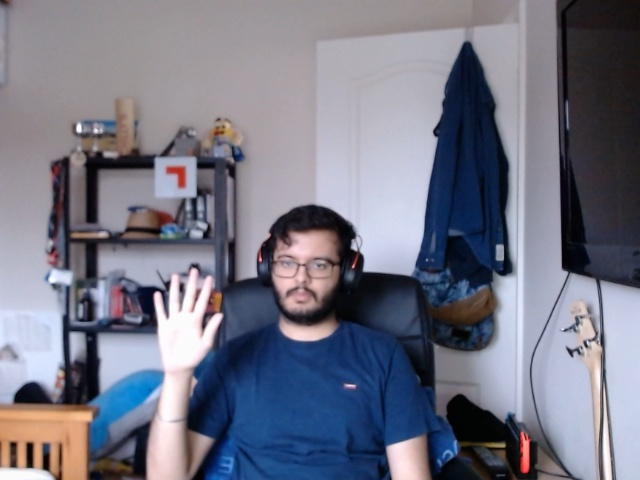Hello: (145, 260, 229, 377)
